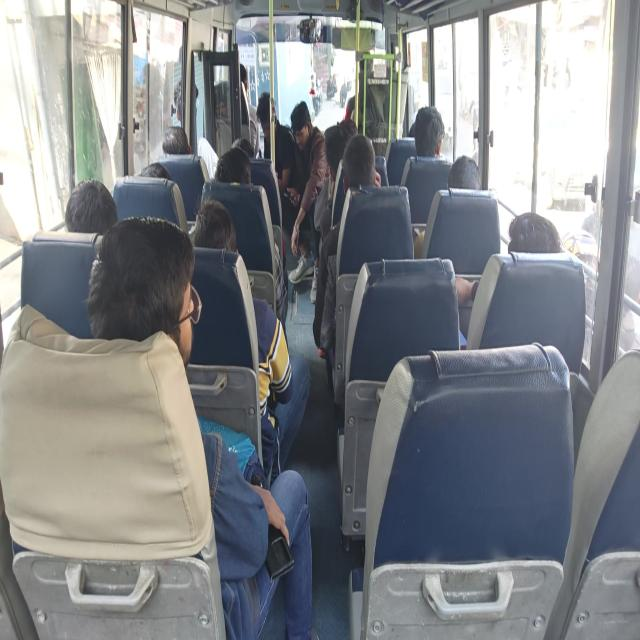person: (120, 272, 208, 366), (197, 211, 247, 253), (513, 229, 566, 268), (70, 187, 113, 227), (350, 142, 382, 190), (422, 107, 445, 168), (219, 154, 248, 200), (359, 41, 385, 90), (176, 79, 202, 127), (327, 129, 352, 170), (292, 104, 314, 149), (452, 164, 479, 200), (140, 157, 171, 188), (232, 56, 252, 97), (168, 126, 190, 162), (231, 135, 263, 159), (260, 100, 276, 137)
